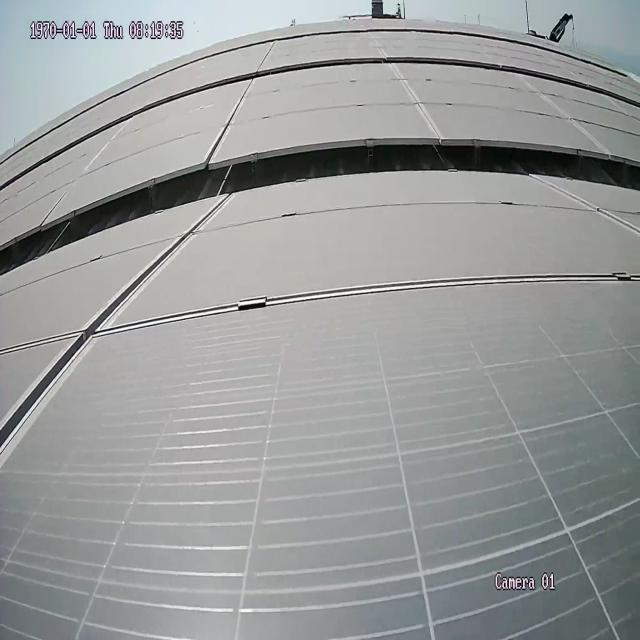interior panel: (0, 215, 638, 473), (212, 87, 253, 149), (386, 71, 434, 120)
outher panel: (0, 143, 640, 277)
